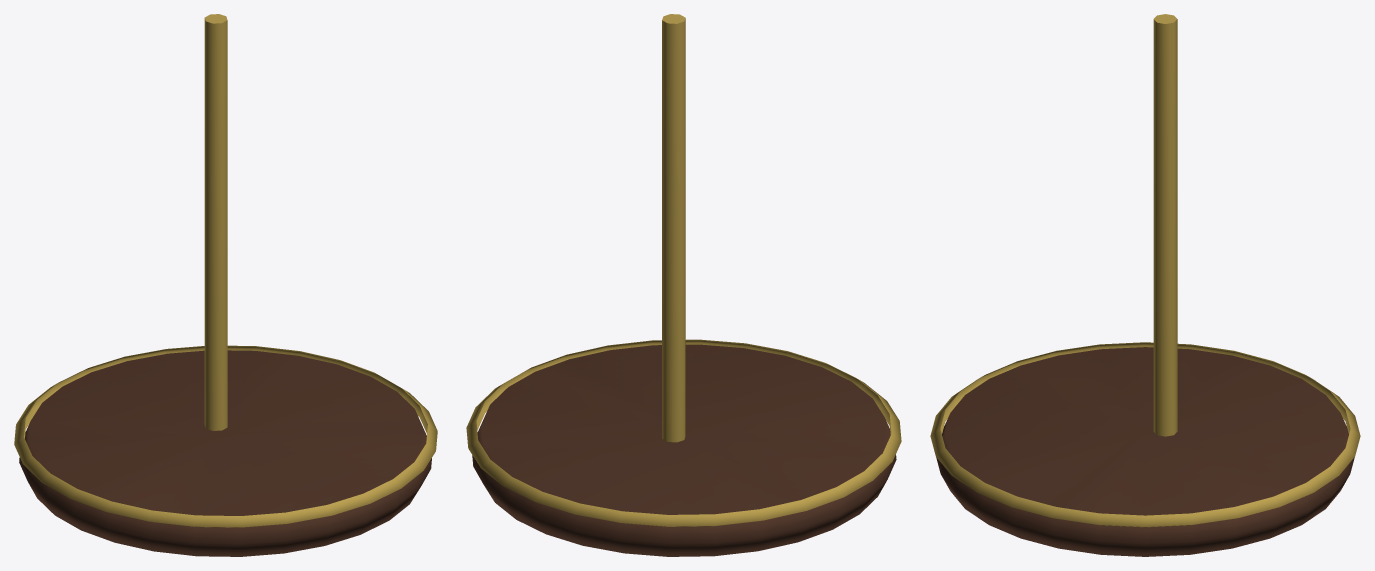
File: furn_mannequin_stand.glb
3 views of the same model, side by side, from view 1: azimuth 30°, elevation 25°; view 2: azimuth 150°, elevation 25°; view 3: azimuth 270°, elevation 25° (orthographic). The views are drawn at different scales.
Visible parts, largest first — view 1: furn_mannequin_stand_main; view 2: furn_mannequin_stand_main; view 3: furn_mannequin_stand_main.
Part boxes in pixels (<box>): furn_mannequin_stand_main: <box>14,14,437,556</box>; furn_mannequin_stand_main: <box>466,14,901,556</box>; furn_mannequin_stand_main: <box>930,14,1360,556</box>.
Bounding box in the file's own units: 0.43 × 0.5 × 0.43.
